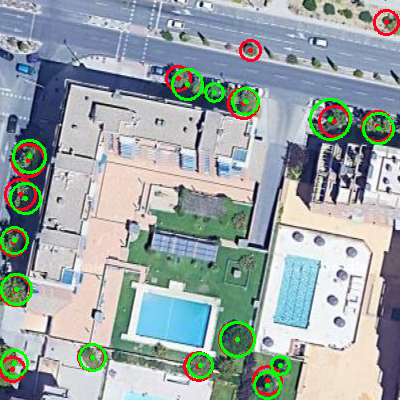tree: (310, 99, 351, 140), (1, 337, 27, 389), (1, 268, 31, 310), (357, 113, 399, 143), (220, 322, 254, 356), (13, 139, 46, 173), (170, 69, 205, 99), (1, 222, 28, 259), (10, 183, 40, 214), (76, 344, 109, 371), (229, 88, 261, 115), (254, 371, 281, 400), (188, 351, 213, 380), (269, 356, 291, 375), (205, 81, 223, 103)
